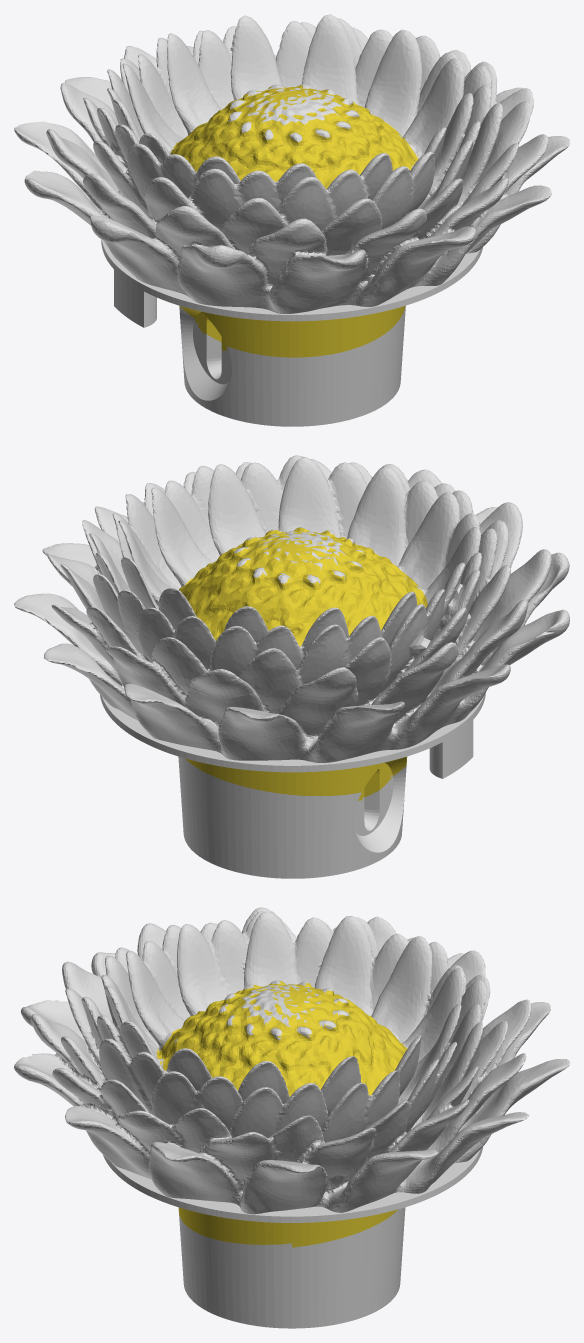
Rendered from frontpanel_white.glb.
3 views of the same model, one above another, from view 1: azimuth 30°, elevation 25°; view 2: azimuth 150°, elevation 25°; view 3: azimuth 270°, elevation 25° (orthographic).
Bounding box in the file's own units: 0.055 × 0.0323 × 0.0552.
